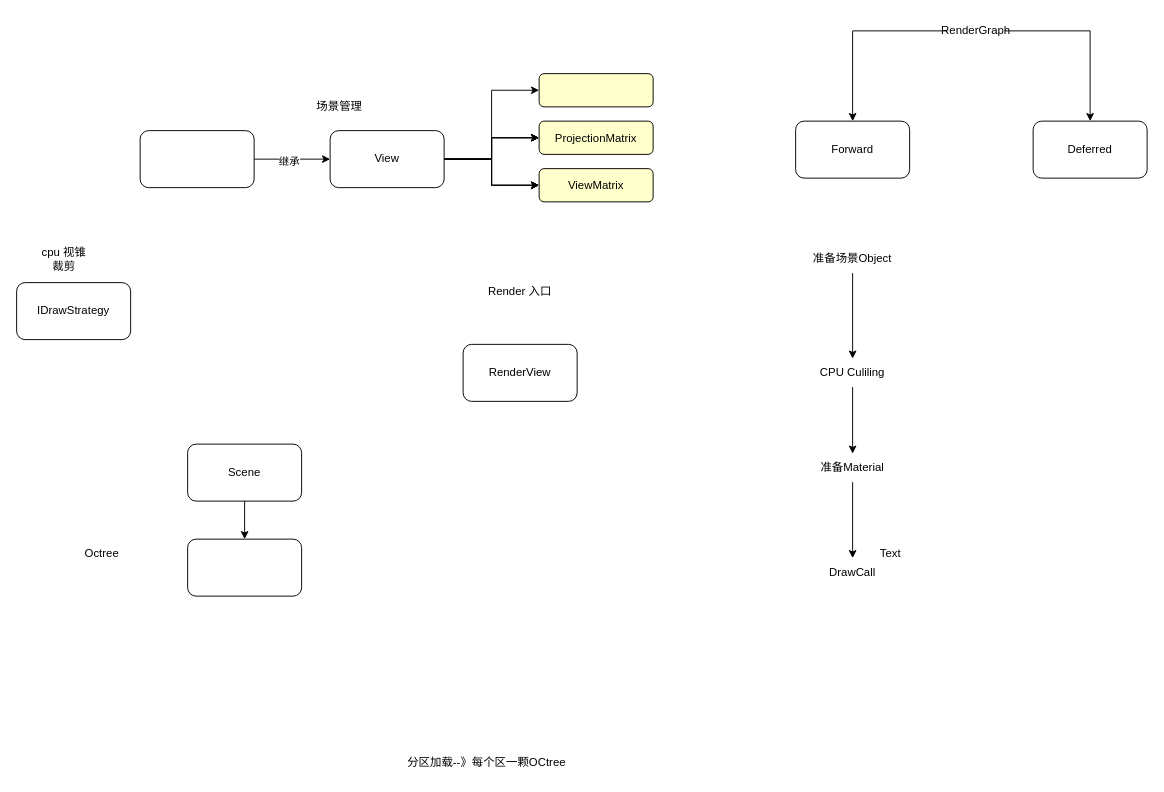
Image size: 1164x792. Some labels were removed from this diagram. Each missing label, with the box of its shape:
CameraPos: (538, 73, 653, 107)
SceneData: (139, 130, 254, 188)
SceneGraph: (187, 538, 302, 596)
